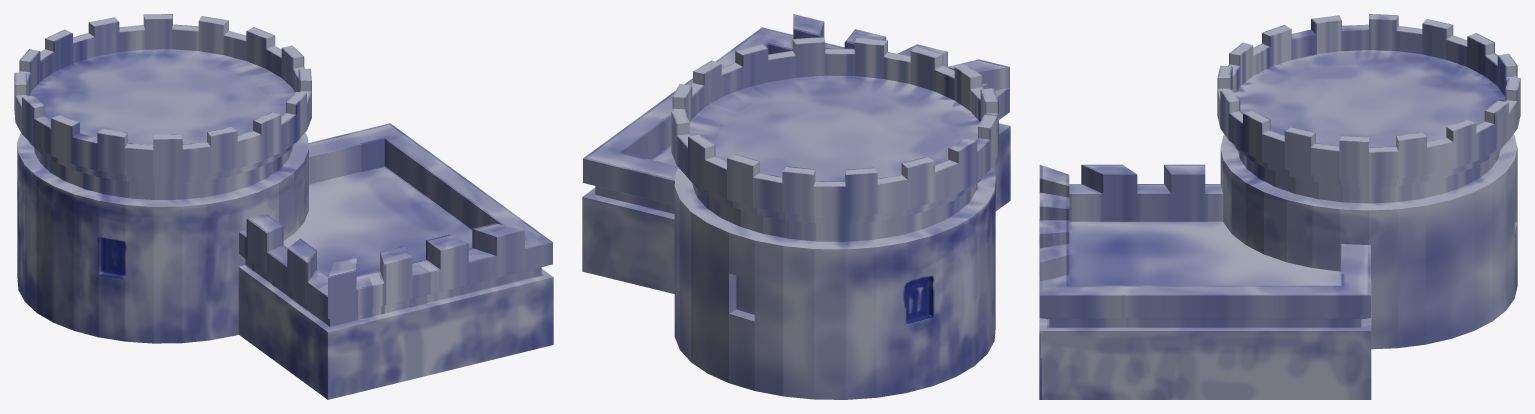
File: fortress2.gltf
3 views of the same model, side by side, from view 1: azimuth 30°, elevation 25°; view 2: azimuth 150°, elevation 25°; view 3: azimuth 270°, elevation 25° (orthographic). The views are drawn at different scales.
Visible parts, largest first — view 1: Cylinder, Cube; view 2: Cylinder, Cube; view 3: Cylinder, Cube.
Part boxes in pixels (x1,y1,x2,y2): Cylinder: [14, 14, 311, 343]; Cube: [238, 123, 553, 399]; Cylinder: [671, 37, 998, 399]; Cube: [582, 14, 1010, 293]; Cylinder: [1217, 14, 1520, 349]; Cube: [1039, 164, 1371, 399].
Bounding box in the file's own units: 11.03 × 6.05 × 12.64.
2 materials, 2 textured.
